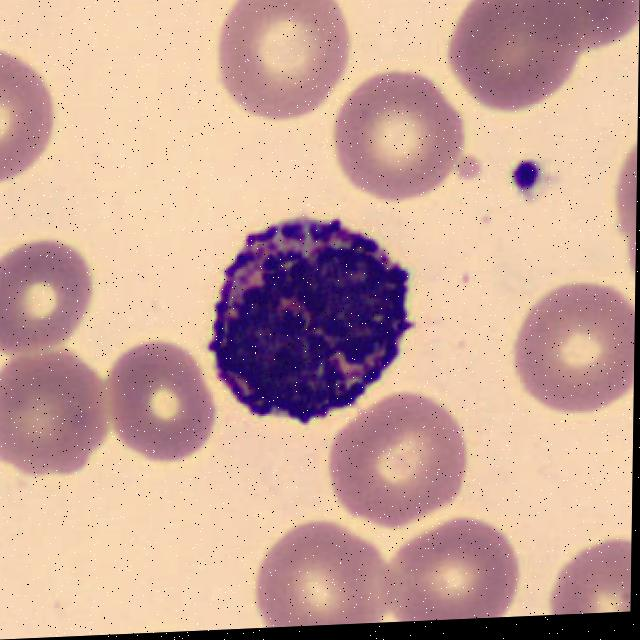basophil: (204, 205, 429, 431)
rbc: (325, 60, 471, 203), (319, 386, 467, 526), (206, 0, 355, 123), (501, 277, 635, 413), (436, 0, 588, 115), (102, 321, 218, 468), (252, 516, 399, 628), (380, 513, 525, 623), (0, 347, 116, 475), (0, 231, 102, 358), (0, 32, 65, 190), (537, 535, 632, 616), (523, 0, 640, 63), (598, 132, 638, 298), (108, 613, 217, 635)
